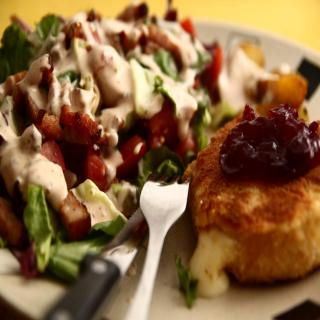Salad: (0, 0, 320, 310)
